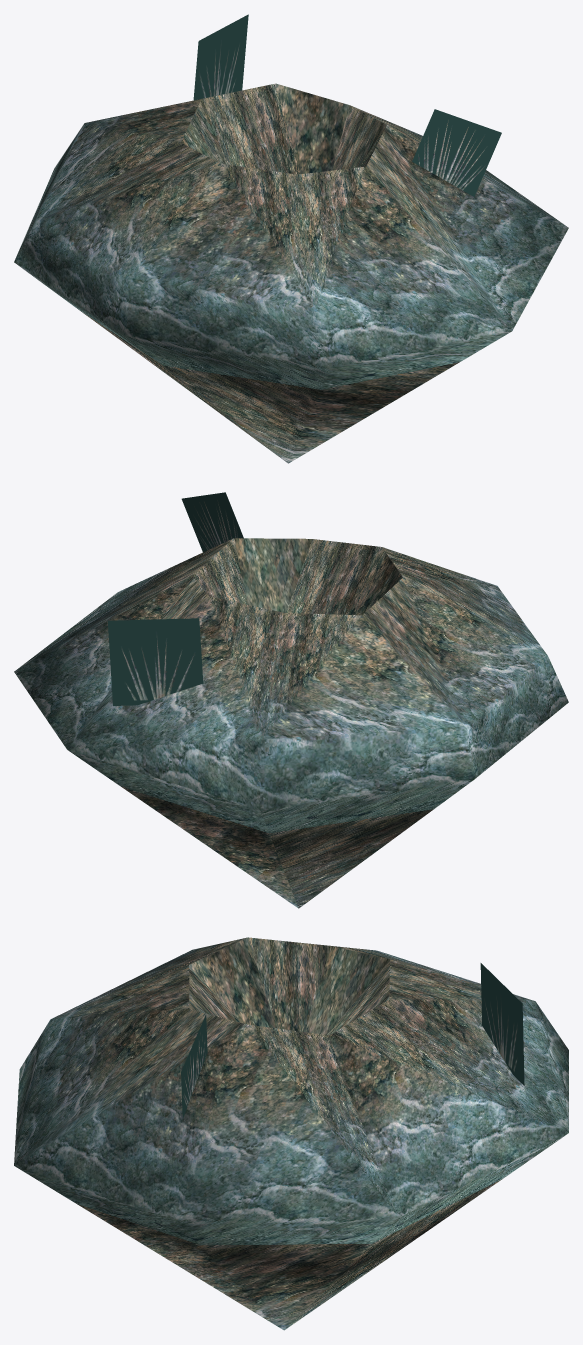
File: rock_crystl_mound_med_l3.fbx
3 renders of one model, top to bottom at view 1: azimuth 30°, elevation 25°; view 2: azimuth 150°, elevation 25°; view 3: azimuth 270°, elevation 25°, orthographic. The views are drawn at different scales.
Parts seen in each view (by area): view 1: mesh_node; view 2: mesh_node; view 3: mesh_node.
Boxes of the visible parts, box(x1,y1,x2,y2) form: mesh_node: box(14, 14, 568, 463); mesh_node: box(14, 492, 568, 908); mesh_node: box(14, 937, 568, 1330).
Size of the model in its own units: 15.54 by 11.65 by 15.73.
